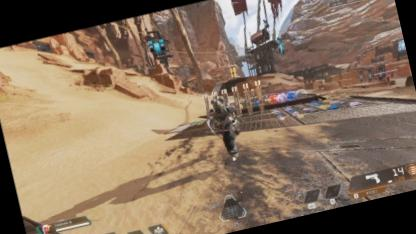Target: (200, 93, 247, 164)
